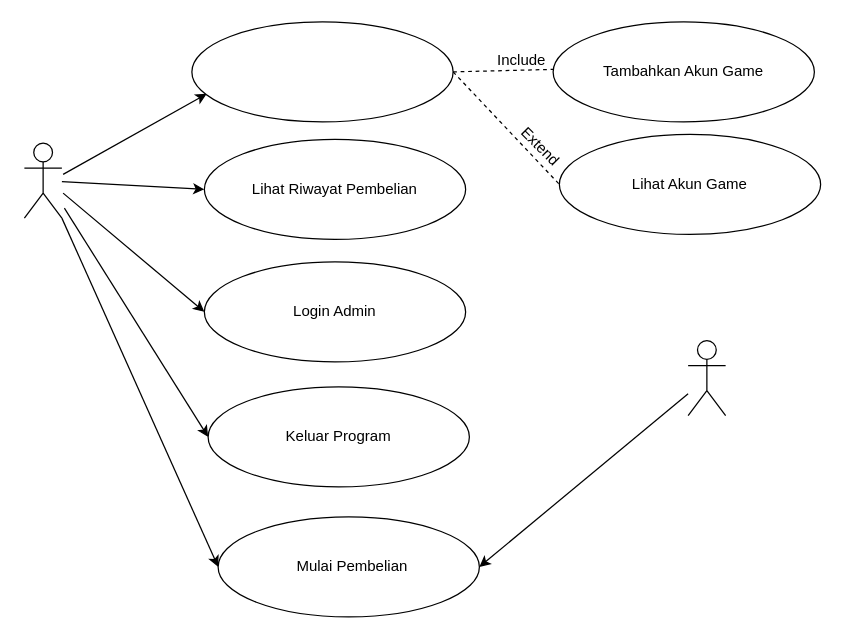
Some shapes in this 843 by 639 pixel diagram are drawn without their labels. The shapes that lost their labels are listed below. From the top down, each one's box as (x1, y1, x2, y2) in pixels, then its label:
(191, 21, 453, 122): Kelola Akun Game
(23, 142, 62, 218): Admin
(687, 339, 726, 416): User
